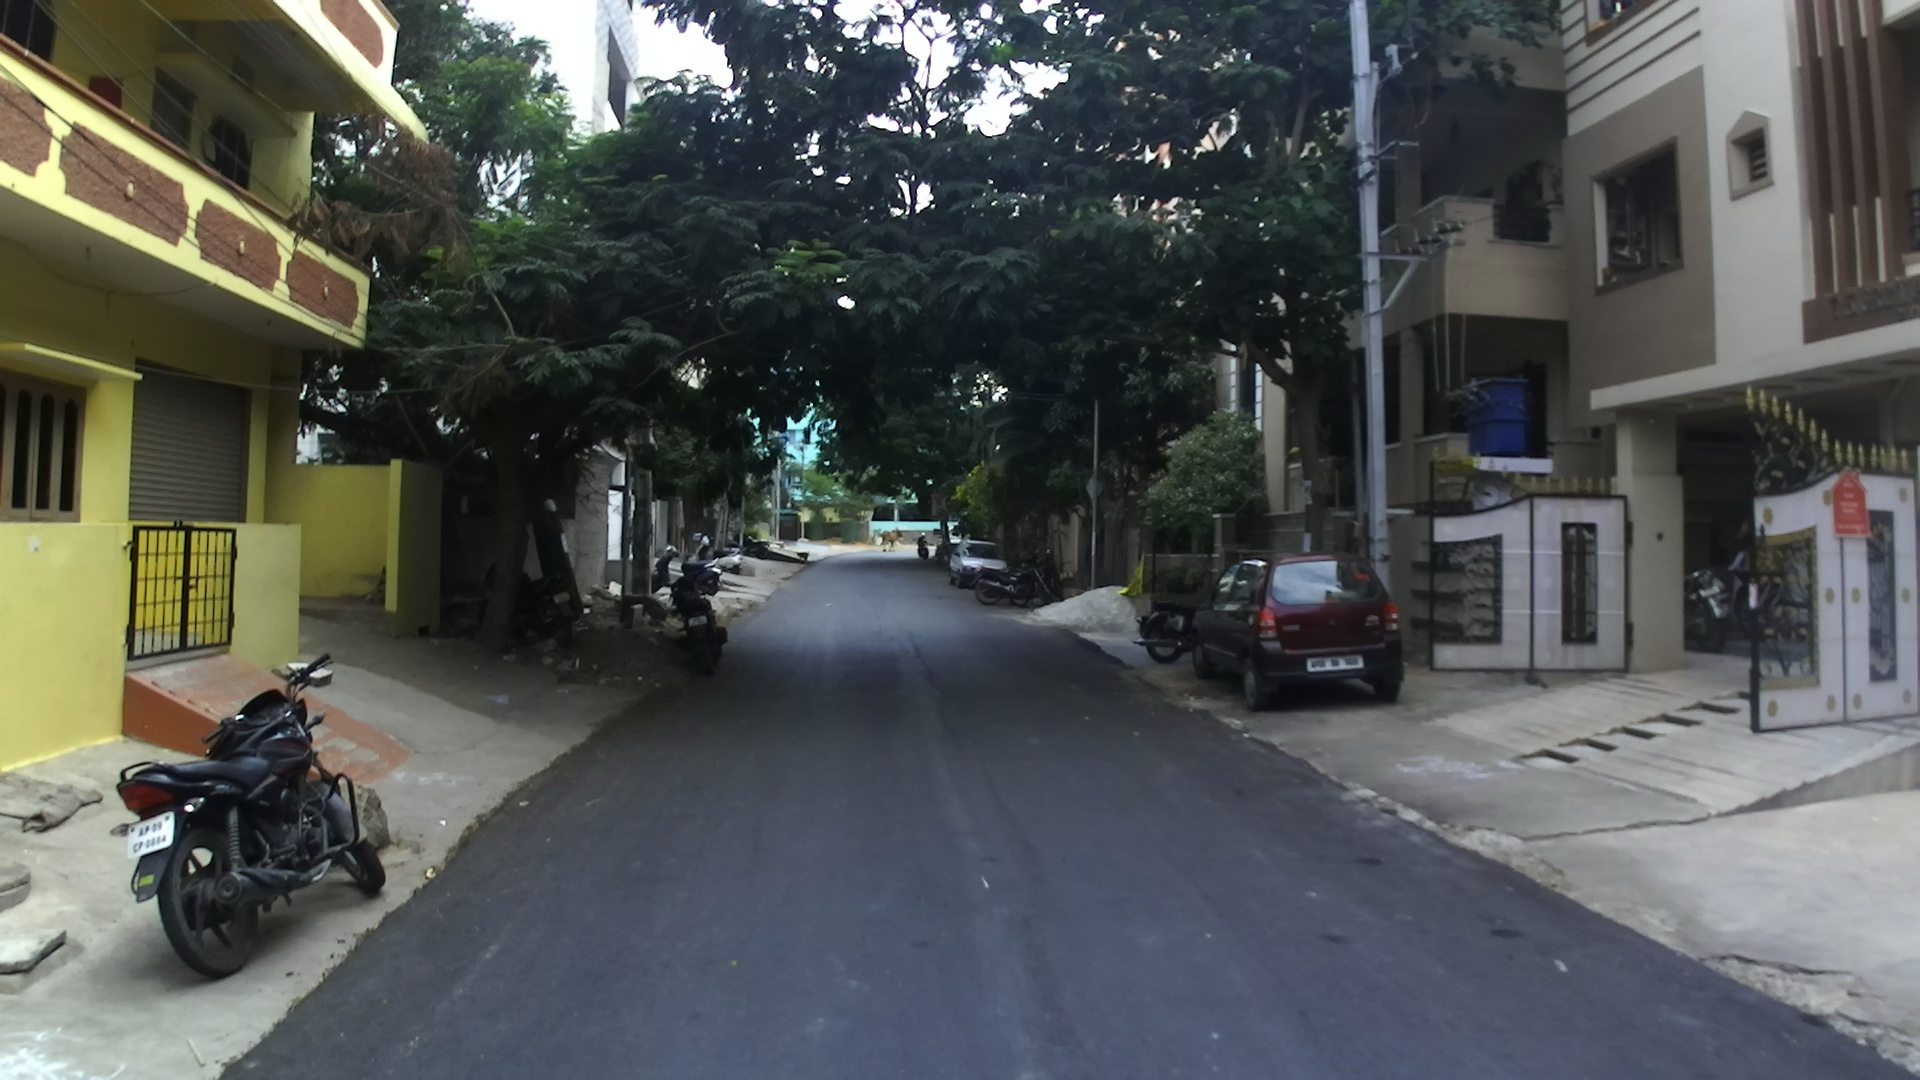vehicle: (113, 647, 402, 978), (1188, 553, 1403, 707), (657, 575, 728, 676), (949, 543, 1011, 591)
